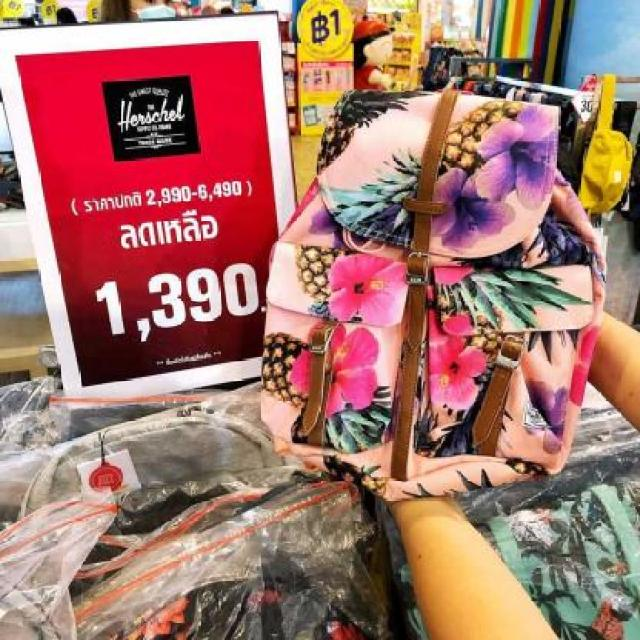Bag: (226, 73, 608, 504)
